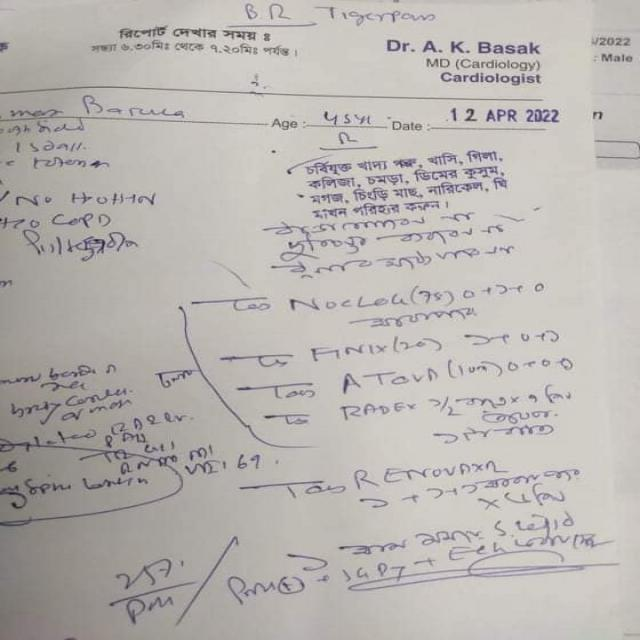Atova: (332, 364, 449, 392)
Finix: (295, 336, 401, 362)
Noclog: (272, 287, 417, 316)
Radex: (331, 396, 423, 423)
Renova XR: (346, 454, 509, 493)
